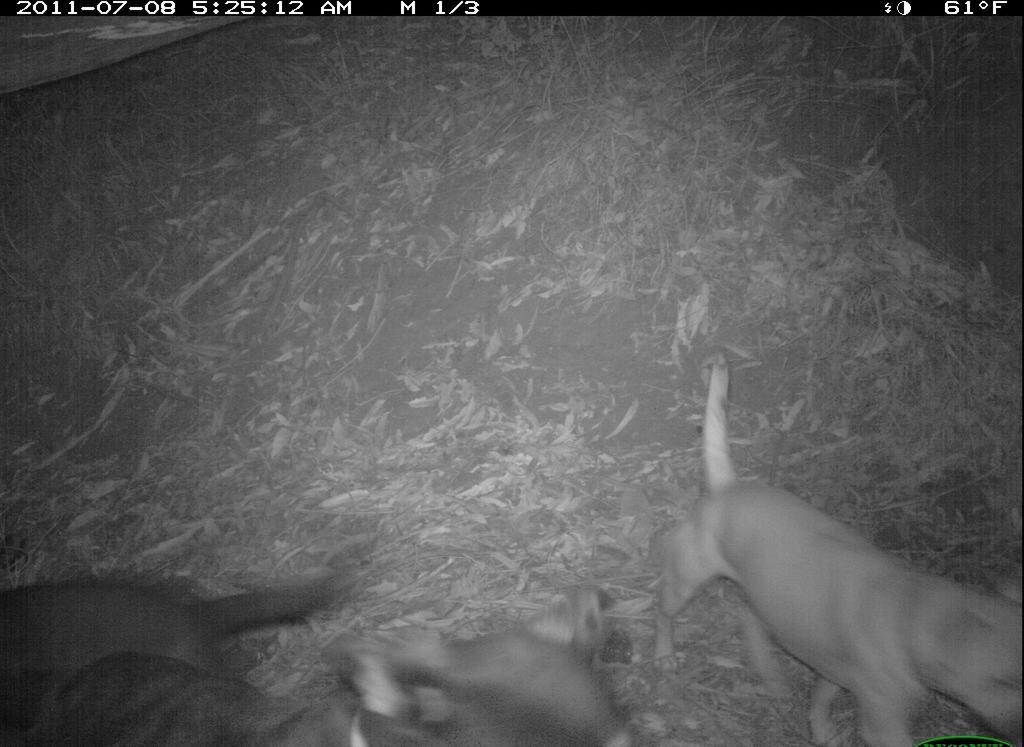dog: (647, 349, 1023, 744), (62, 609, 664, 743), (12, 539, 385, 719)
